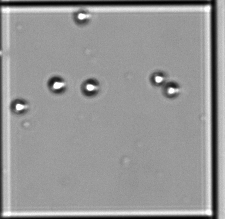Living Cell: (80, 78, 99, 96), (48, 76, 66, 94), (73, 8, 90, 24), (164, 82, 180, 98), (151, 71, 166, 86), (11, 100, 28, 113)
